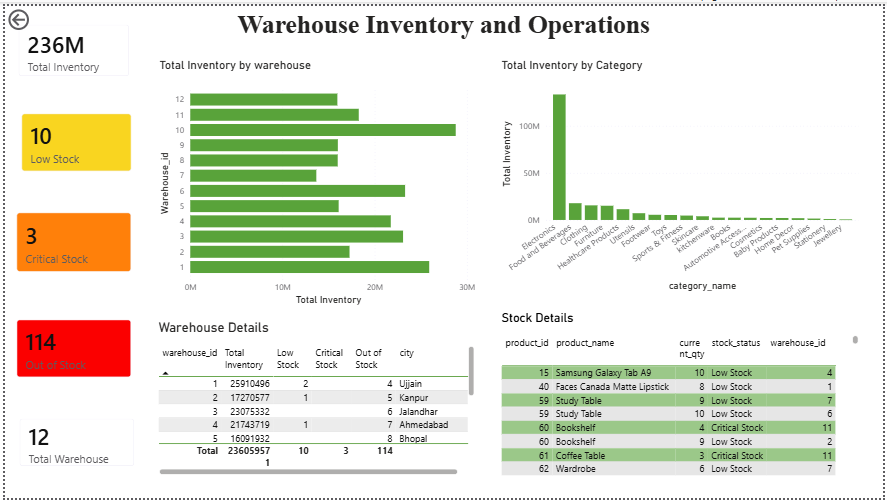

This screenshot's page, from the dashboard's own definition file:
{"tool":"powerbi","page":{"name":"Page 2","canvas":[1280,720],"ordinal":1},"visuals":[{"type":"textbox","box":[96.9,0,1087.7,64.6],"z":0},{"type":"cardVisual","fields":{"Data":["retail_sales category.Total Inventory"]},"box":[3.3,10,195.4,109.2],"z":1000},{"type":"cardVisual","fields":{"Data":["retail_sales category.Total Warehouse"]},"box":[5,585,201.5,103.1],"z":2000},{"type":"cardVisual","fields":{"Data":["retail_sales category.Out of Stock Items"]},"box":[0,440,201.4,118.6],"z":3000},{"type":"clusteredBarChart","title":"Total Inventory by warehouse","fields":{"Category":["retail_sales warehouse.warehouse_id"],"Y":["retail_sales category.Total Inventory"]},"box":[220.4,75.8,470.7,365],"z":4000},{"type":"cardVisual","fields":{"Data":["retail_sales category.Critical Stock Item"]},"box":[0,284.3,201.4,120],"z":5000},{"type":"columnChart","title":"Total Inventory by Category","fields":{"Category":["retail_sales category.category_name"],"Y":["retail_sales category.Total Inventory"]},"box":[720,76.1,531.2,345.4],"z":6000},{"type":"tableEx","title":"Warehouse Details","fields":{"Values":["retail_sales warehouse.warehouse_id","retail_sales category.Total Inventory","retail_sales category.Low Stock Items","retail_sales category.Critical Stock Item","retail_sales category.Out of Stock Items","retail_sales location.city"]},"box":[219.6,457.9,471.1,230.9],"z":7000},{"type":"actionButton","box":[0,0,100,40],"z":8000},{"type":"cardVisual","fields":{"Data":["retail_sales category.Low Stock Items"]},"box":[7.1,140,194.3,118.6],"z":9000},{"type":"tableEx","title":"Stock Details","fields":{"Values":["retail_sales warehouse_stock_status.product_id","retail_sales warehouse_stock_status.product_name","retail_sales warehouse_stock_status.current_quantity","retail_sales warehouse_stock_status.stock_status","retail_sales warehouse_stock_status.warehouse_id"]},"box":[720,443.4,531.2,245.9],"z":10000}]}

Visuals, with their boxes in screenshot pixels (x1, y1, x2, y2), scaled from the page's 1280x720 canvas onto the 887x501 screenshot:
textbox: rect(67, 0, 821, 45)
cardVisual - retail_sales category.Total Inventory: rect(2, 7, 138, 83)
cardVisual - retail_sales category.Total Warehouse: rect(3, 407, 143, 479)
cardVisual - retail_sales category.Out of Stock Items: rect(0, 306, 140, 389)
"Total Inventory by warehouse" clusteredBarChart: rect(153, 53, 479, 307)
cardVisual - retail_sales category.Critical Stock Item: rect(0, 198, 140, 281)
"Total Inventory by Category" columnChart: rect(499, 53, 867, 293)
"Warehouse Details" tableEx: rect(152, 319, 479, 479)
actionButton: rect(0, 0, 69, 28)
cardVisual - retail_sales category.Low Stock Items: rect(5, 97, 140, 180)
"Stock Details" tableEx: rect(499, 309, 867, 480)
